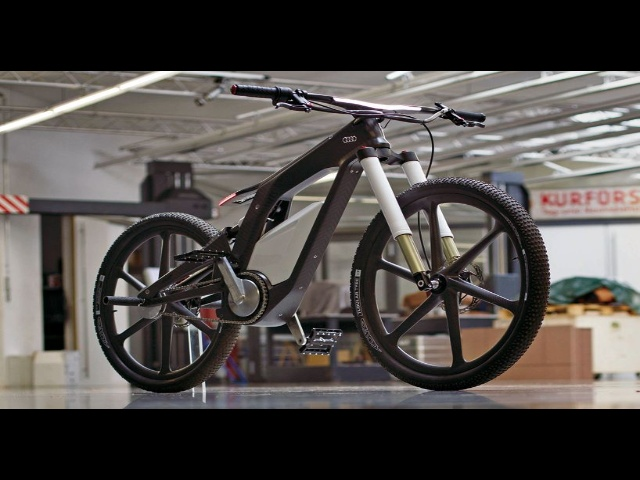bike: (89, 80, 553, 399)
